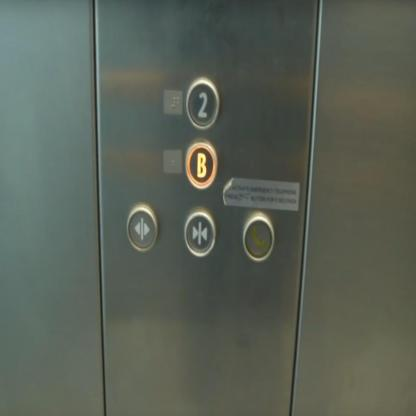2: (184, 76, 221, 132)
B: (182, 136, 218, 191)
call: (240, 210, 275, 264)
close: (182, 205, 217, 260)
open: (124, 200, 160, 255)
